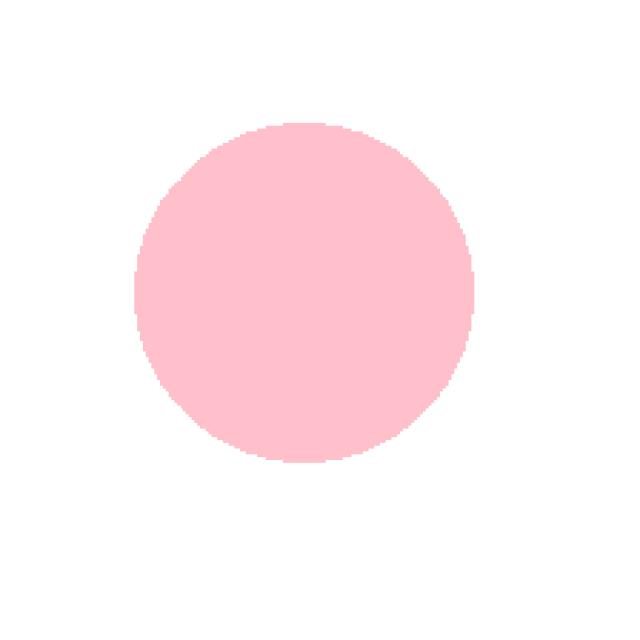Circle: (112, 114, 524, 486)
